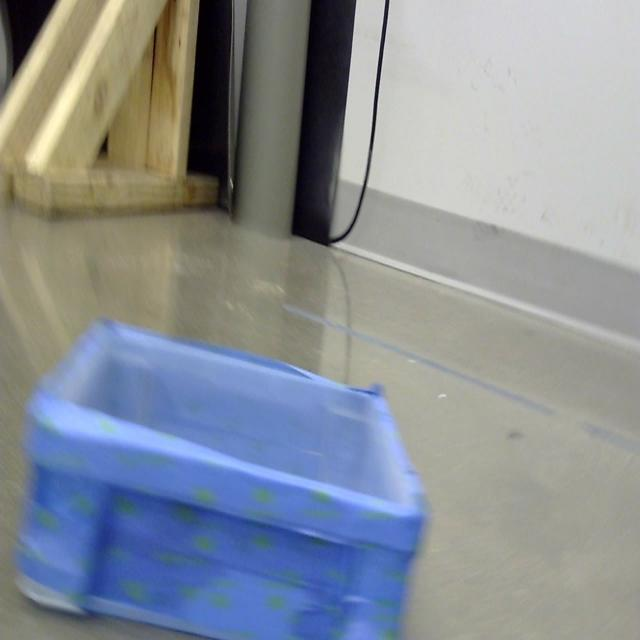bucket: (12, 319, 430, 640)
